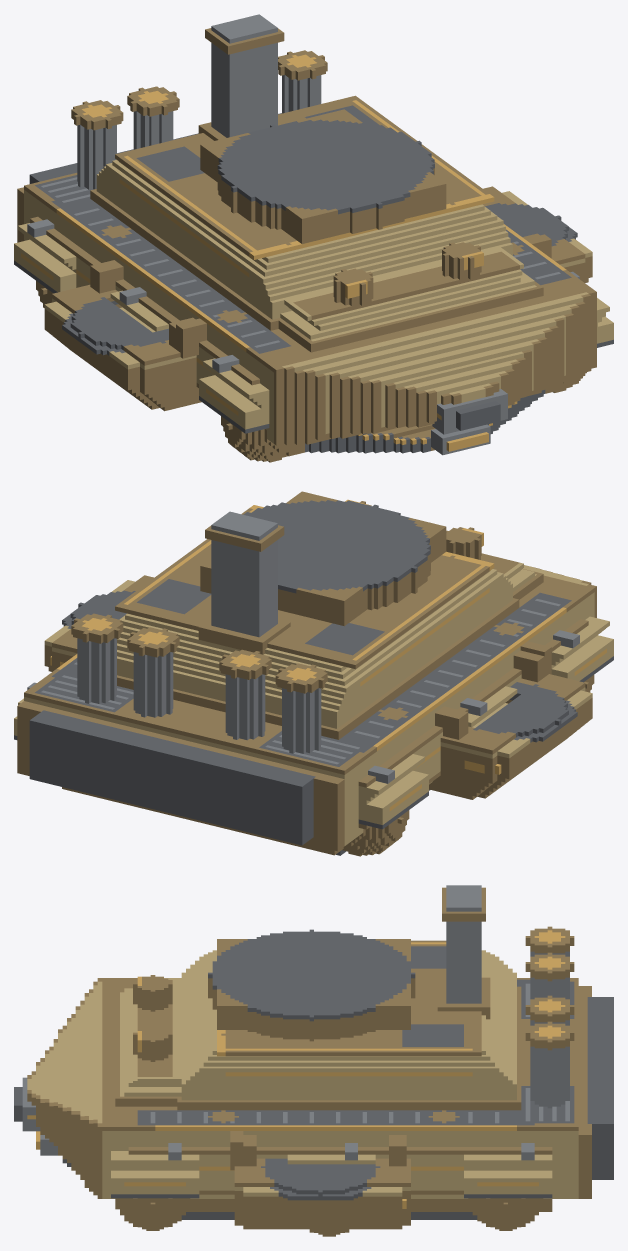
Rendered from hull.glb.
3 renders of one model, top to bottom at view 1: azimuth 30°, elevation 25°; view 2: azimuth 150°, elevation 25°; view 3: azimuth 270°, elevation 25°, orthographic. The views are drawn at different scales.
Size of the model in its own units: 120 by 66 by 136.
